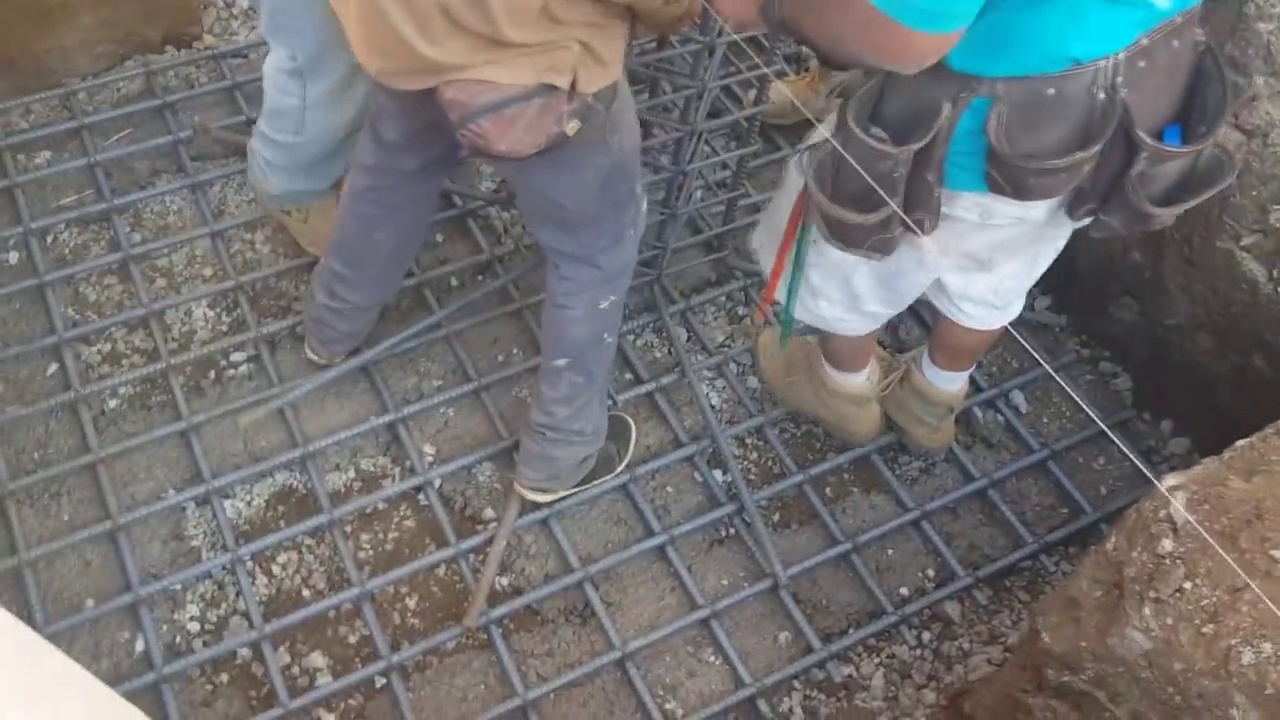person: (736, 0, 1221, 473), (235, 17, 709, 460)
